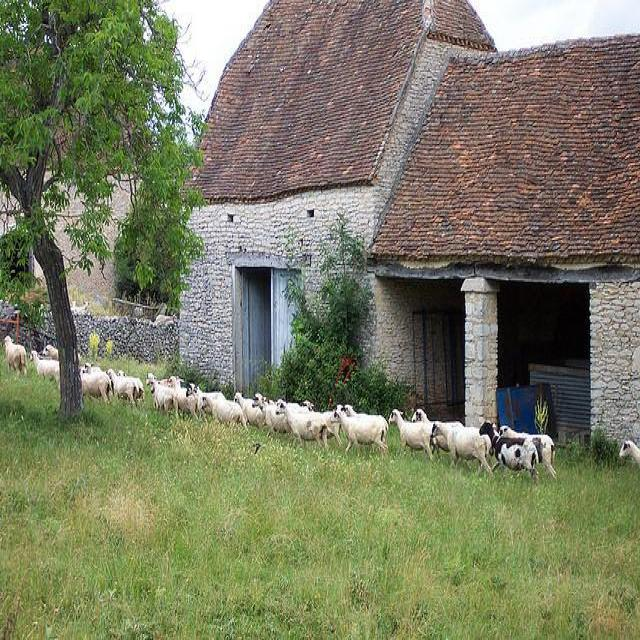Sheep: (0, 334, 449, 471), (481, 421, 539, 486), (500, 426, 557, 480), (334, 404, 390, 458), (433, 426, 493, 475), (275, 400, 330, 451), (389, 409, 434, 463)
